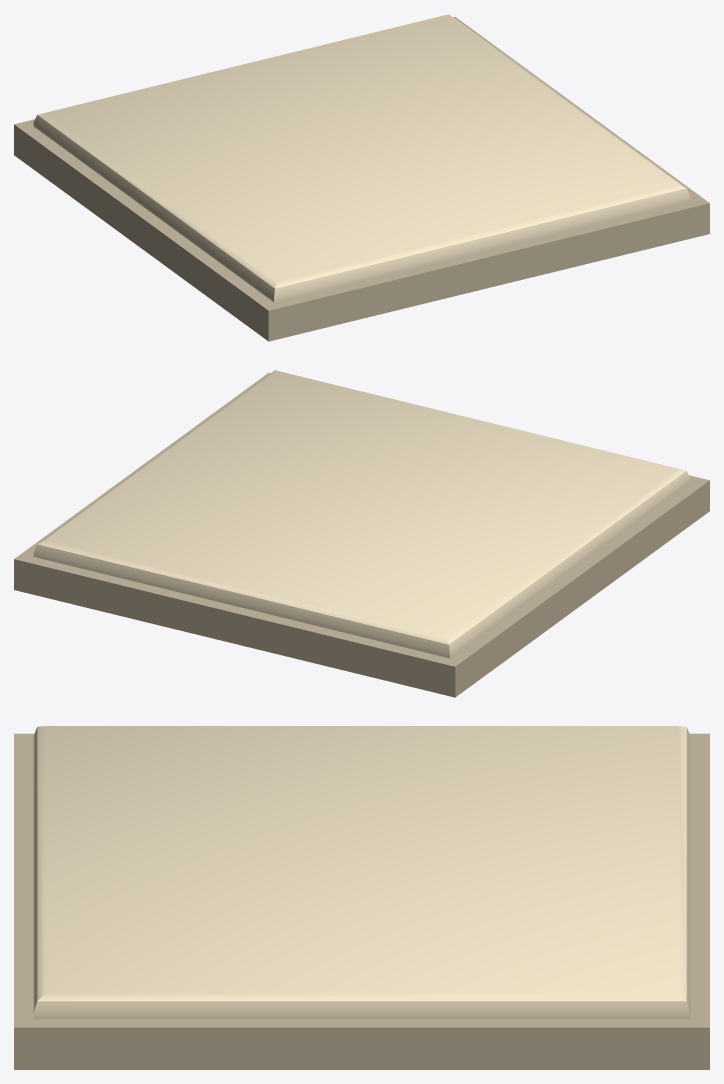
Rendered from Tile1.fbx.
3 renders of one model, top to bottom at view 1: azimuth 30°, elevation 25°; view 2: azimuth 150°, elevation 25°; view 3: azimuth 270°, elevation 25°, orthographic. The views are drawn at different scales.
Parts seen in each view (by area): view 1: Cube.116; view 2: Cube.116; view 3: Cube.116.
Part boxes in pixels (bbox=[...]): Cube.116: bbox=[14, 14, 709, 341]; Cube.116: bbox=[14, 370, 709, 697]; Cube.116: bbox=[14, 726, 709, 1069].
Size of the model in its own units: 100 by 100 by 10.
